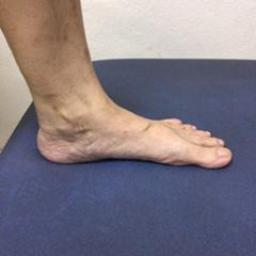Medial View -Left Foot-: (21, 79, 236, 188)
